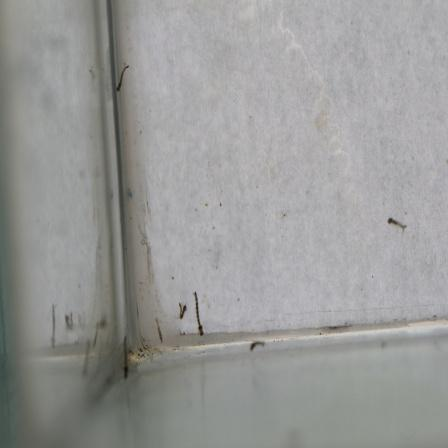Jentik-Nyamuk: (191, 286, 207, 341), (383, 211, 411, 237), (119, 334, 133, 383), (115, 63, 133, 93), (176, 298, 188, 323)
